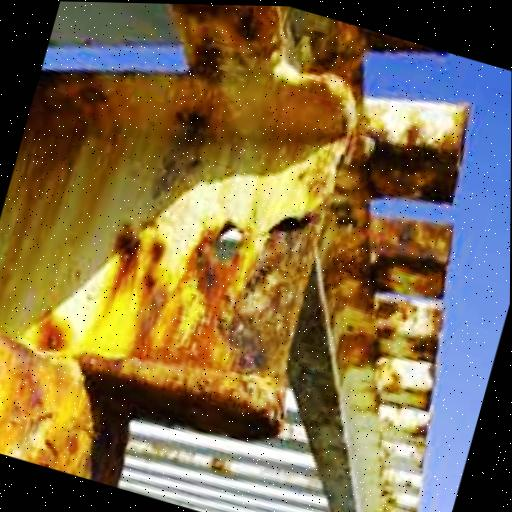corrosion: (0, 0, 386, 512), (304, 90, 499, 389)
